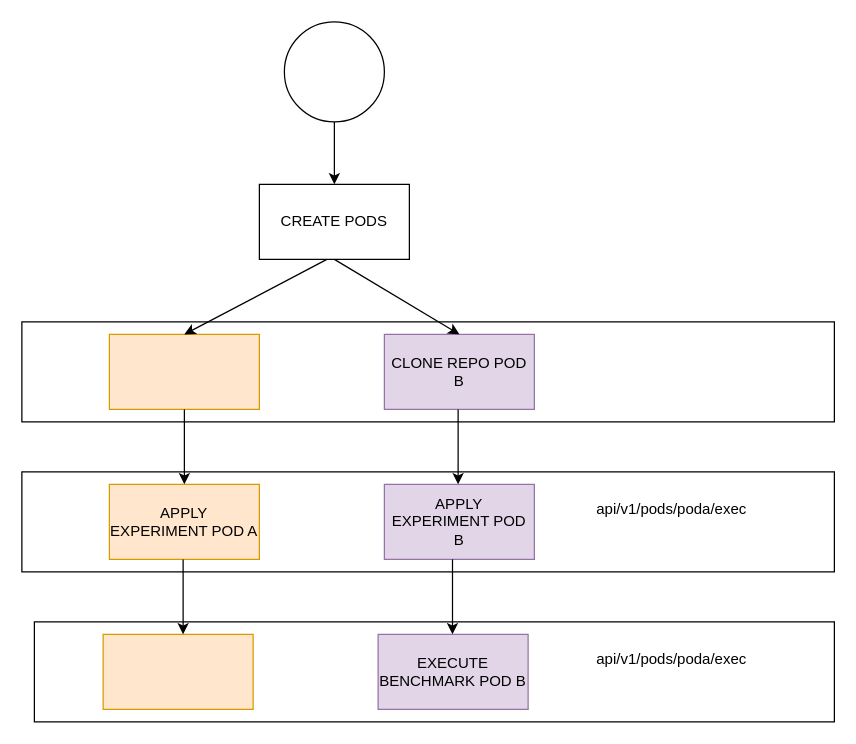
Some shapes in this 856 by 744 pixel diagram are drawn without their labels. The centre of each missing label's shape, as x and y in pixels:
CLONE REPO POD A: (x=183, y=371)
EXECUTE BENCHMARK POD A: (x=177, y=671)
Init Experiment: (x=333, y=71)
